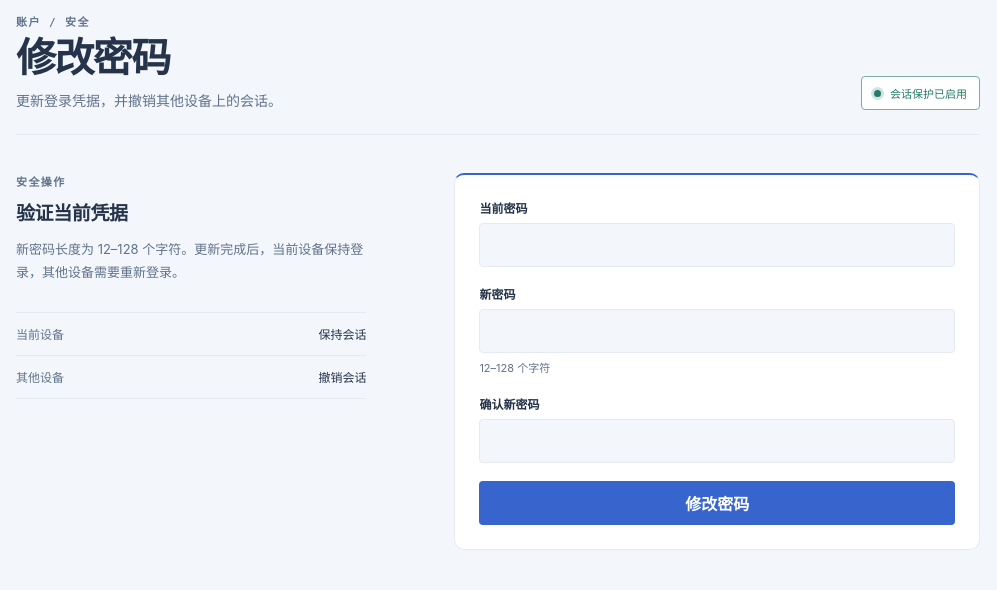
SecurityPage › does not submit an empty current password
This screenshot has width=997, height=590.
Type "replacement-secret" into the password field labelled "新密码". click: (717, 331)
box: top-left (479, 309), bottom-right (955, 353)
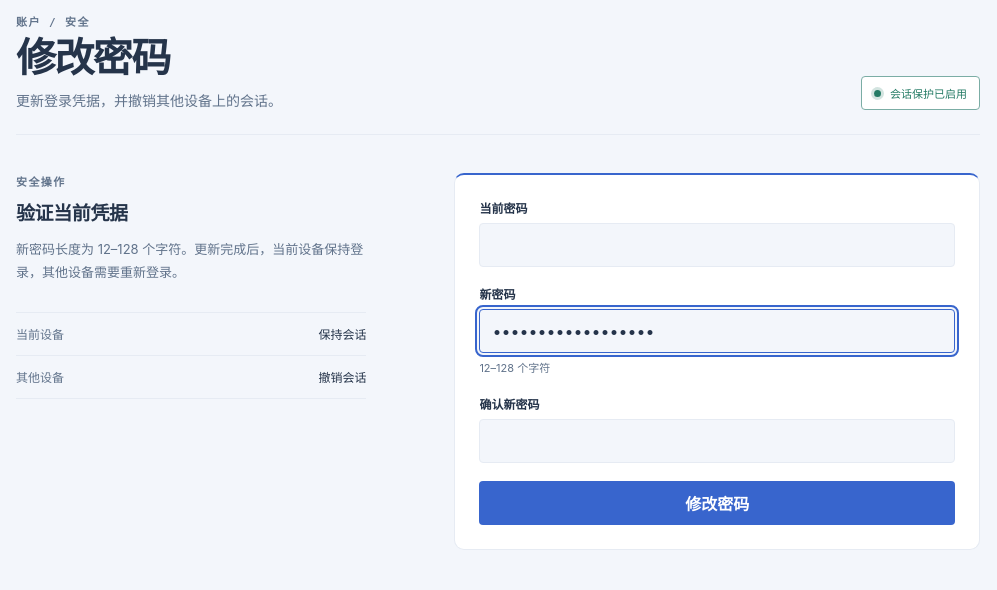
Type "replacement-secret" into the password field labelled "确认新密码". click: (717, 440)
box: top-left (479, 418), bottom-right (955, 462)
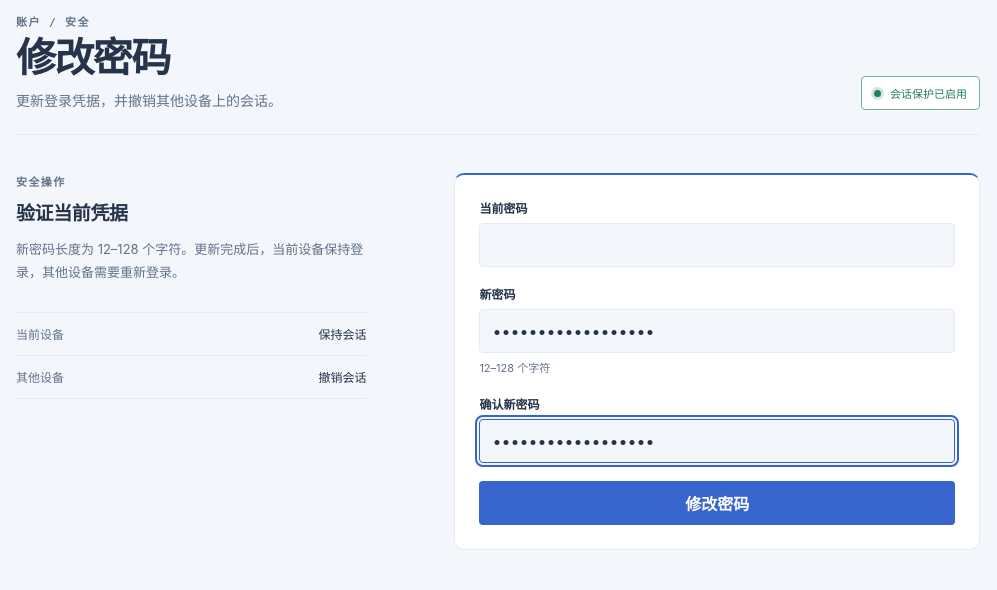
Click the button "修改密码". click: click(717, 502)
box: top-left (479, 480), bottom-right (955, 524)
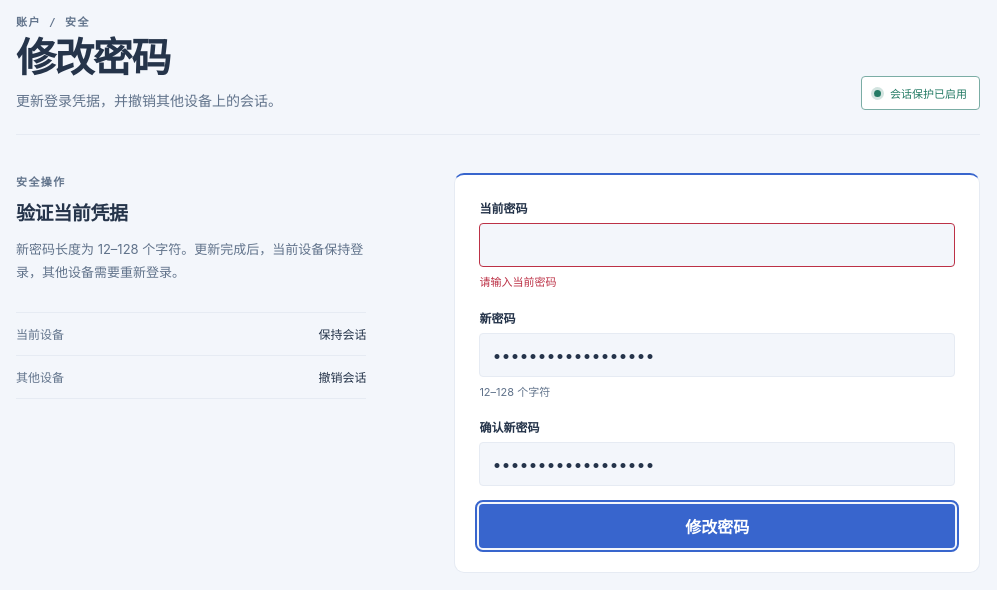
Expected: the text "请输入当前密码" is shown, top-left (479, 275), bottom-right (556, 289)
